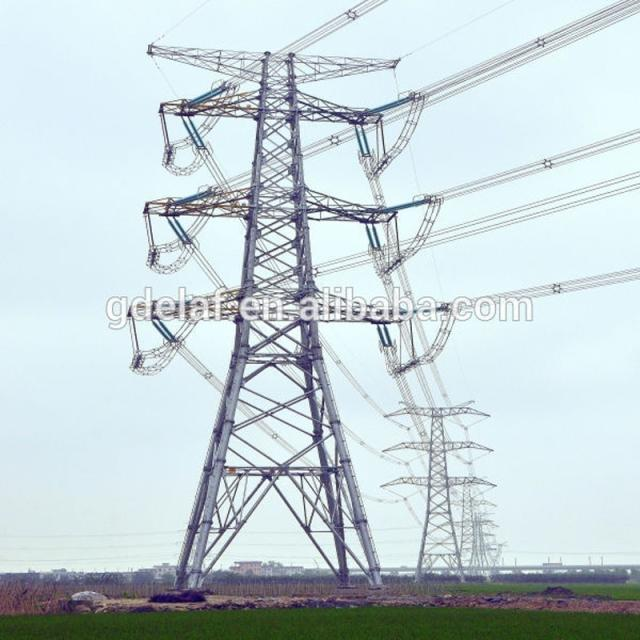non-critical vegetation: (135, 25, 414, 562), (370, 383, 503, 563)
